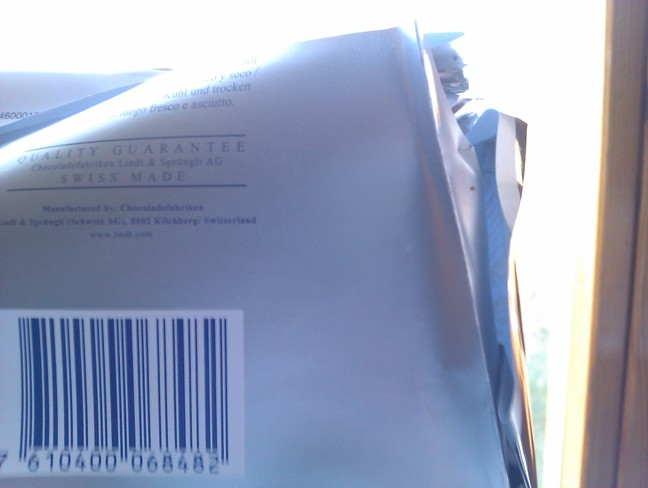detection: (2, 309, 245, 477)
